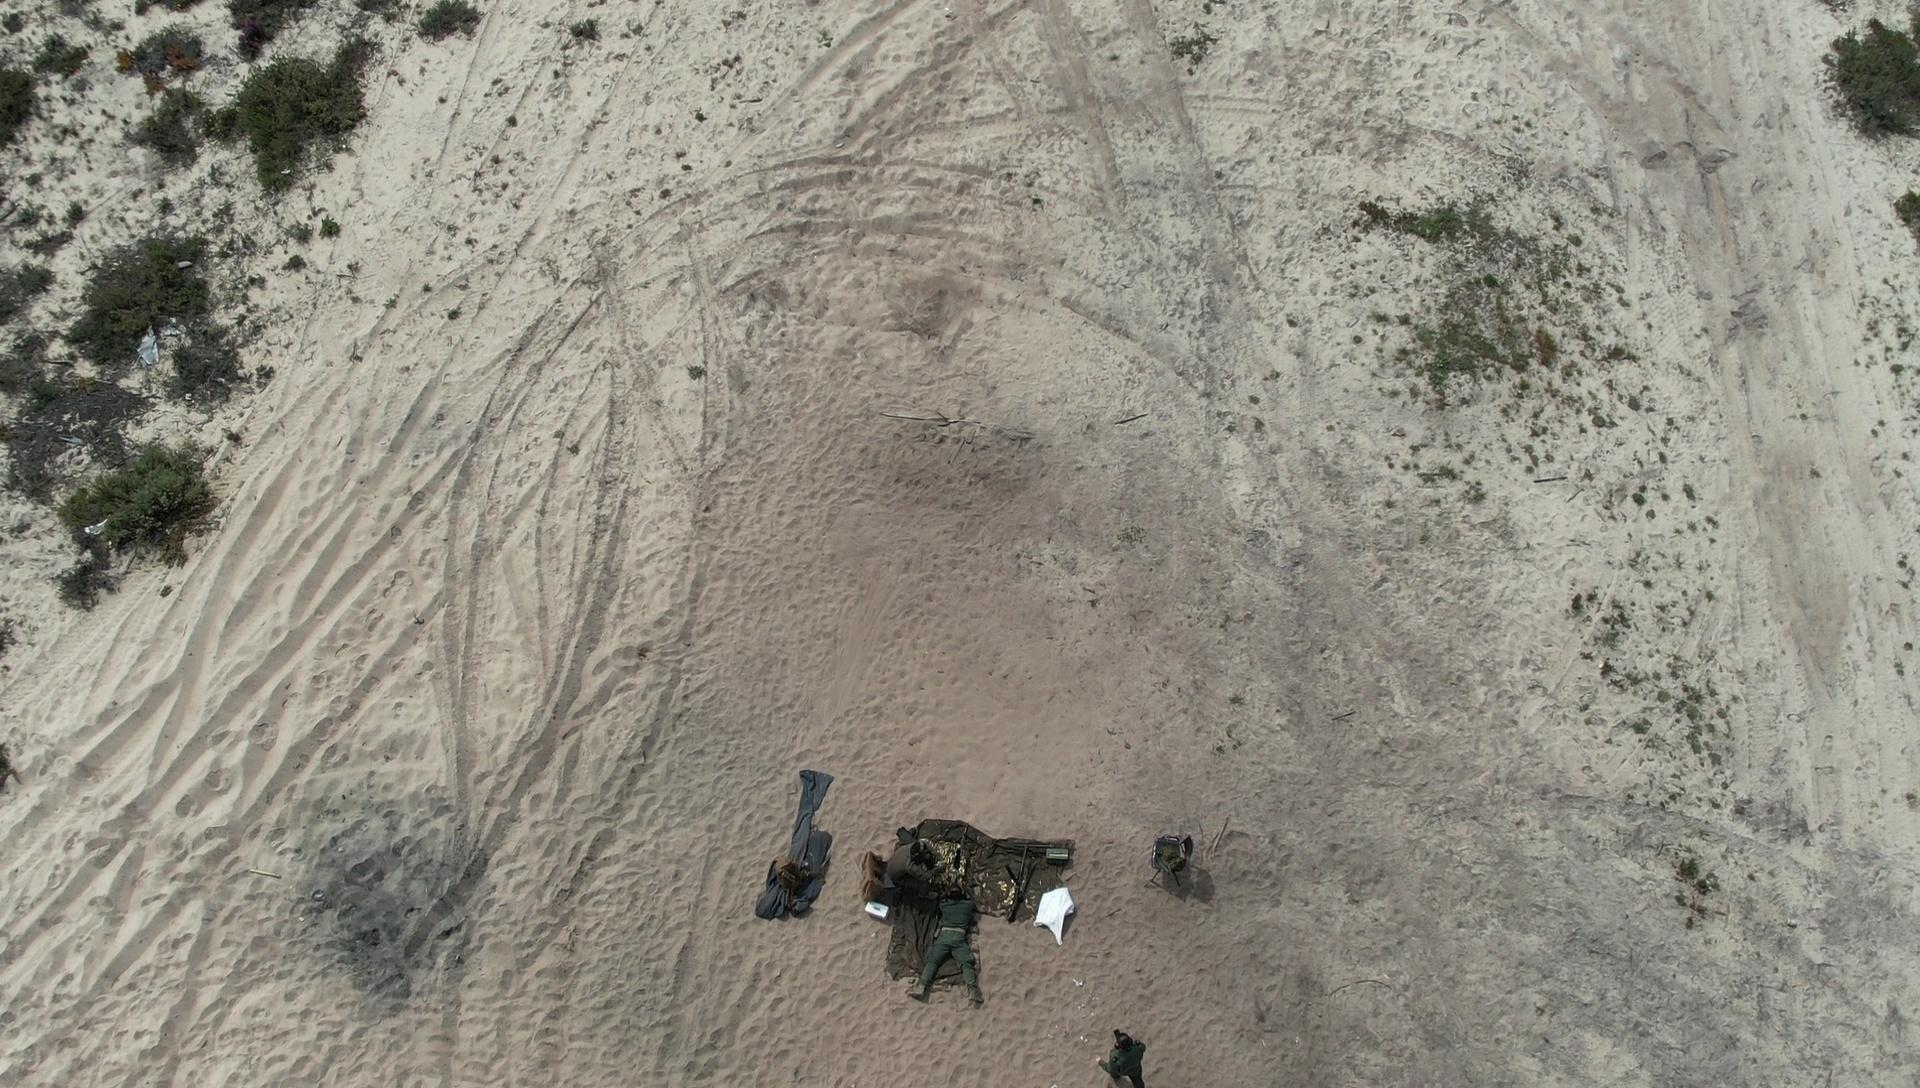Soldier: (895, 866, 992, 1004), (882, 849, 945, 914), (1095, 1023, 1160, 1085)
